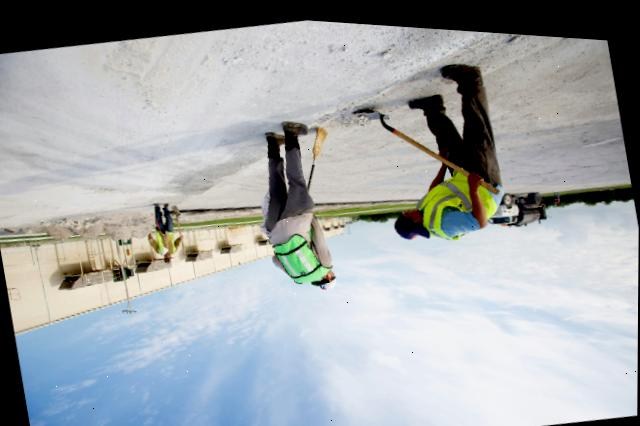vest: (407, 143, 514, 241), (248, 220, 348, 283)
